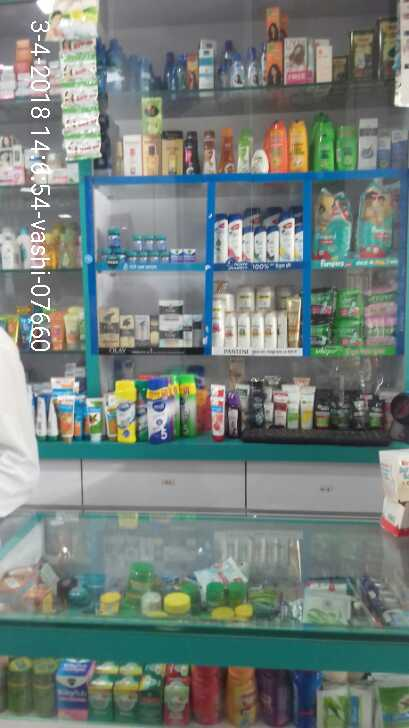vicks: (182, 248, 199, 263), (108, 228, 121, 246), (112, 248, 127, 263), (146, 251, 159, 266), (155, 233, 167, 249), (170, 248, 182, 263), (143, 234, 155, 249), (159, 250, 169, 266), (102, 248, 112, 263), (132, 234, 142, 248), (136, 251, 146, 263), (128, 251, 136, 263)
